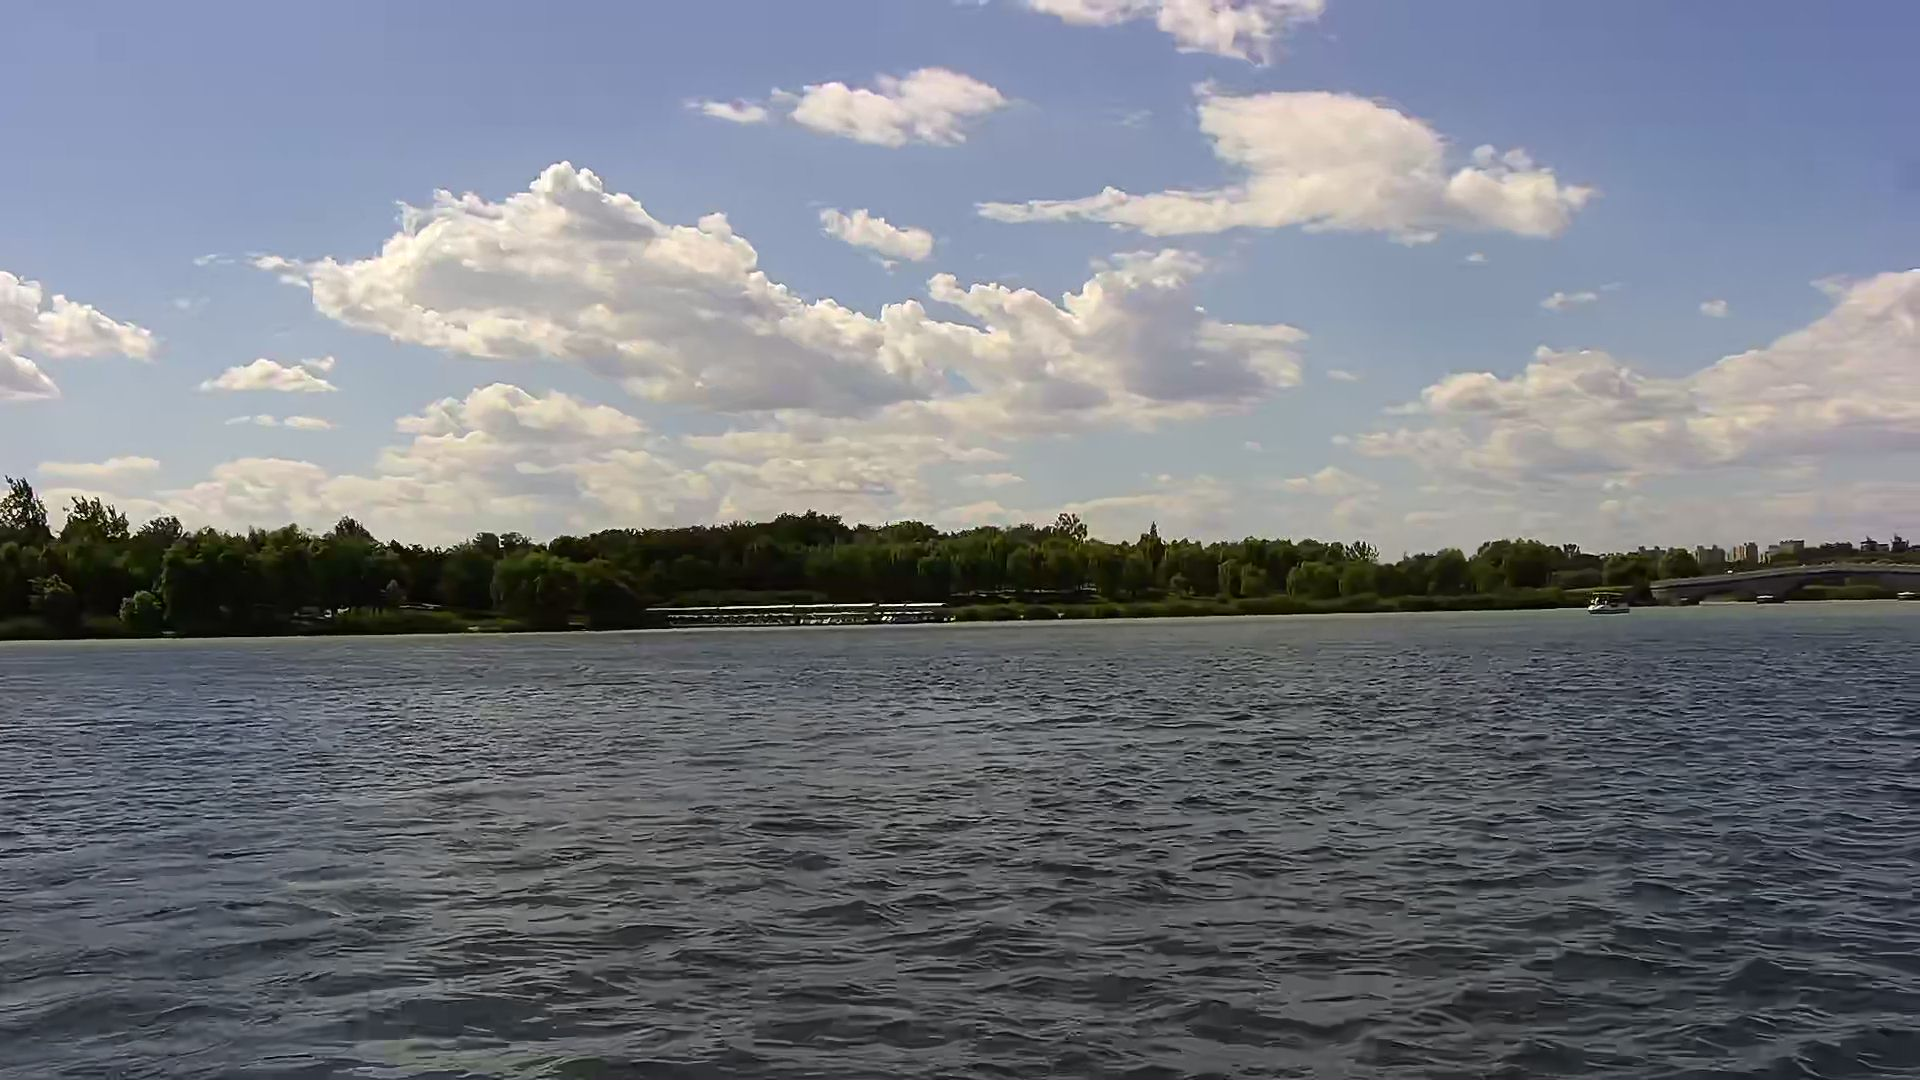boat: (1586, 591, 1635, 616)
bridge: (1654, 560, 1920, 603), (650, 599, 947, 626)
